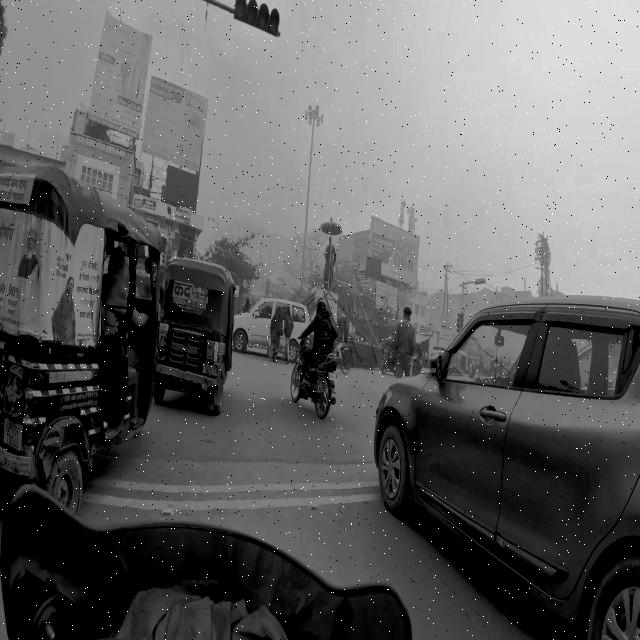Auto-Rickshaw: (0, 156, 169, 521), (162, 247, 241, 440)
Bike: (291, 304, 342, 423)
Car: (375, 302, 640, 640), (236, 286, 312, 362)
